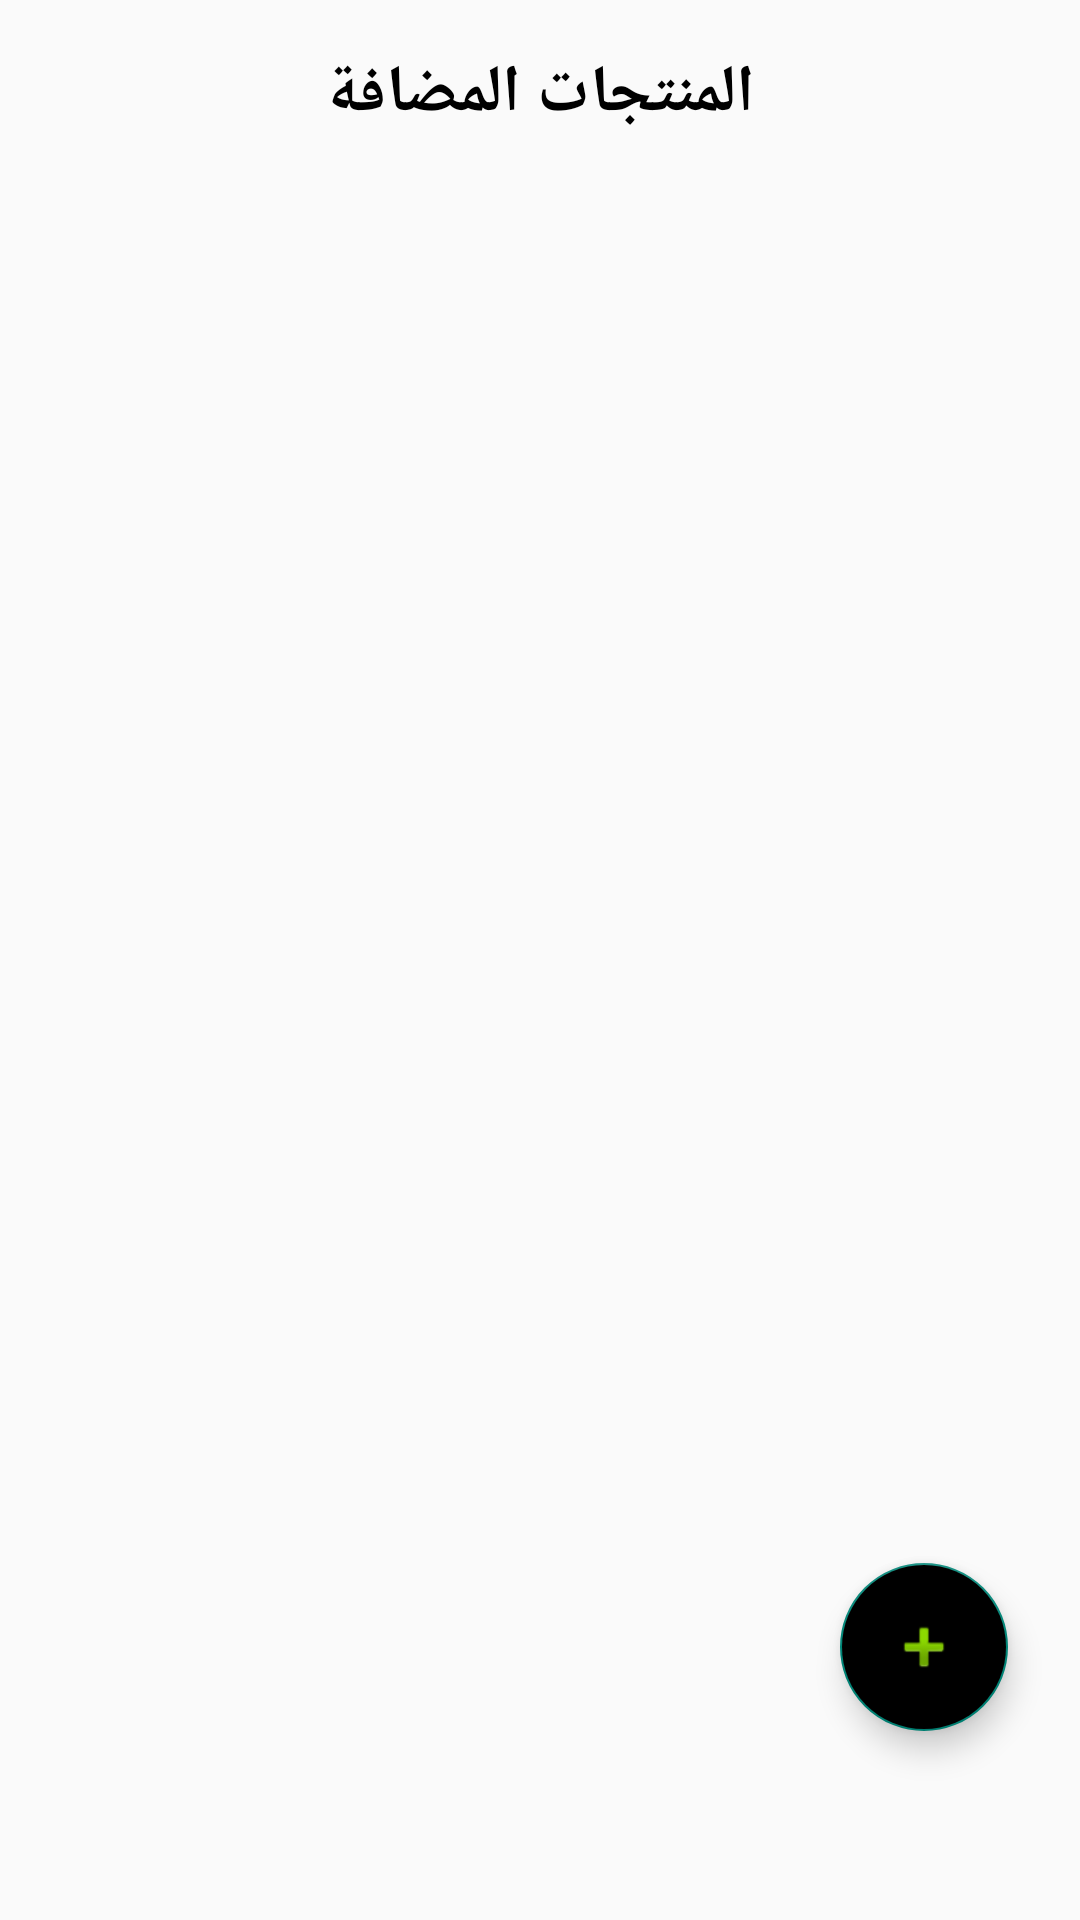

Icon bounding boxes for this 1080×1920 phone screenshot, format (x1, y1, x2, y2):
add: (840, 1563, 1008, 1731)
